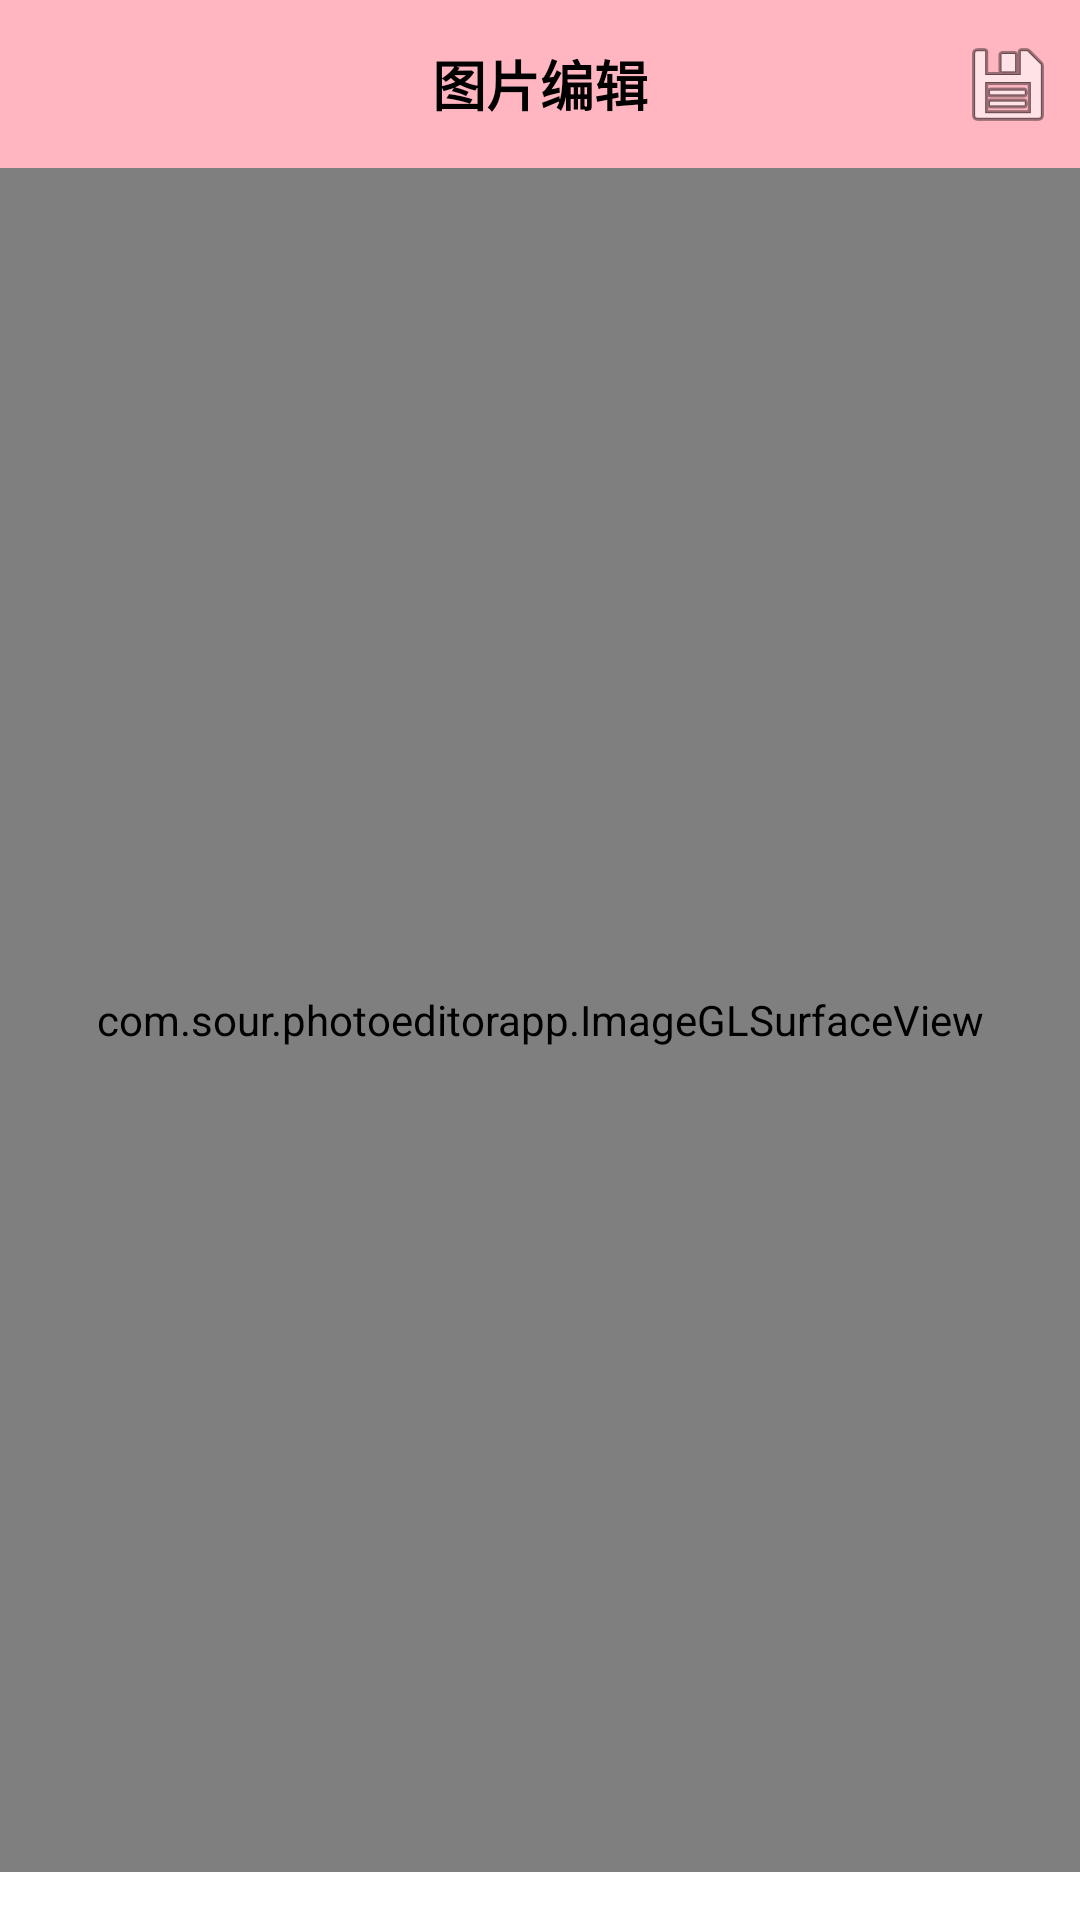

Named icons in this screenshot (1080x1920) and their centers, point (x, y):
保存: point (1008, 84)
